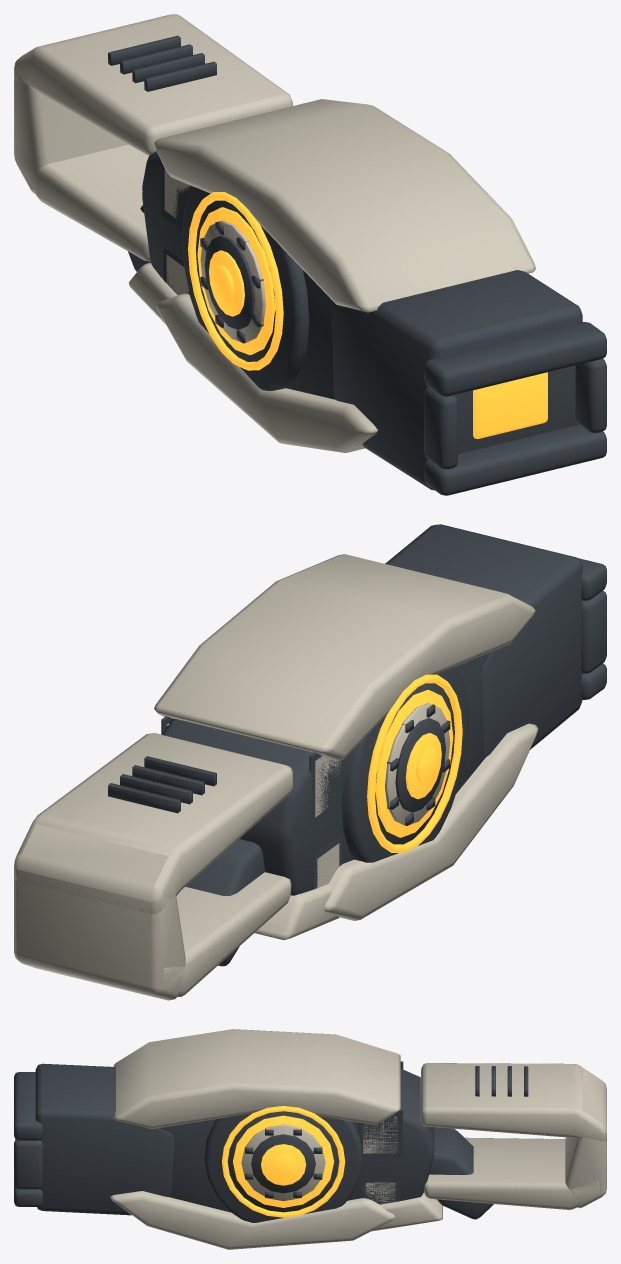
Rendered from WP_Spinfusor_LP.fbx.
The picture shows the model from 3 angles, top to bottom: view 1: azimuth 30°, elevation 25°; view 2: azimuth 150°, elevation 25°; view 3: azimuth 270°, elevation 25°; orthographic projection. The views are drawn at different scales.
Visible parts, largest first — view 1: WP_Spinfusor_LP; view 2: WP_Spinfusor_LP; view 3: WP_Spinfusor_LP.
Boxes of the visible parts, x1,y1,x2,y2 form: WP_Spinfusor_LP: (14, 14, 606, 495); WP_Spinfusor_LP: (14, 524, 606, 1000); WP_Spinfusor_LP: (14, 1029, 606, 1249).
Bounding box in the file's own units: 1.5 × 1.71 × 5.5.
